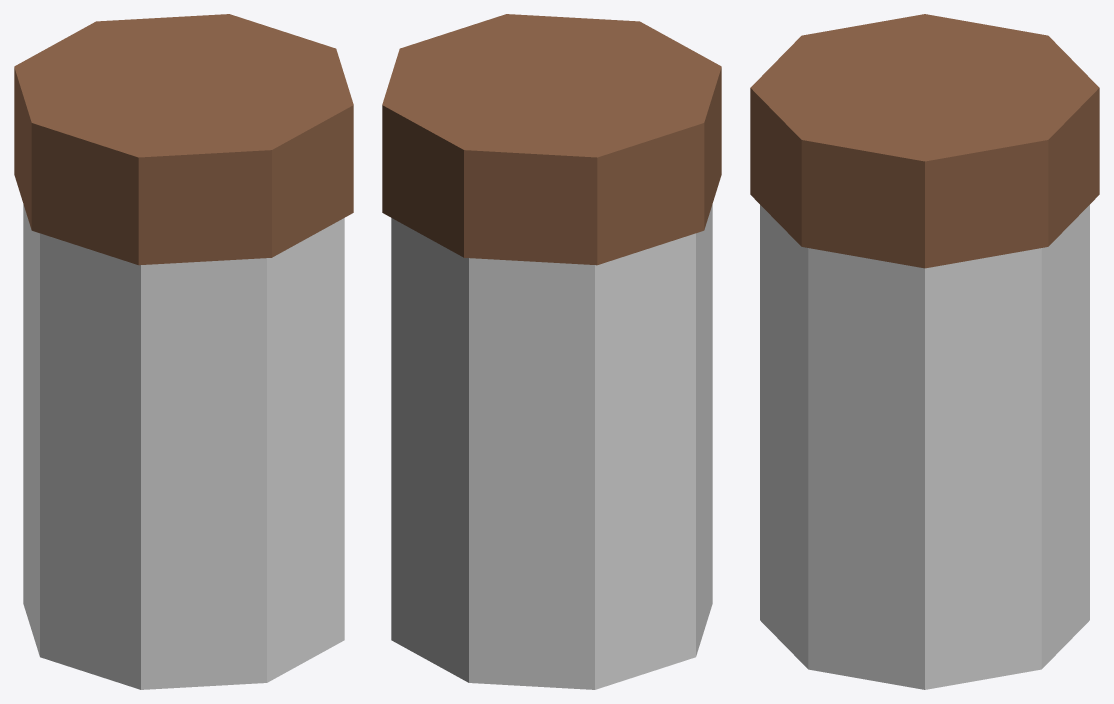
File: KitchenProps_11.fbx
3 views of the same model, side by side, from view 1: azimuth 30°, elevation 25°; view 2: azimuth 150°, elevation 25°; view 3: azimuth 270°, elevation 25° (orthographic).
Parts seen in each view (by area): view 1: KitchenProps_11; view 2: KitchenProps_11; view 3: KitchenProps_11.
Boxes of the visible parts, x1=… form: KitchenProps_11: x1=14, y1=14, x2=353, y2=689; KitchenProps_11: x1=382, y1=14, x2=721, y2=689; KitchenProps_11: x1=750, y1=14, x2=1099, y2=689.
Size of the model in its own units: 12.68 by 21.35 by 12.68.
